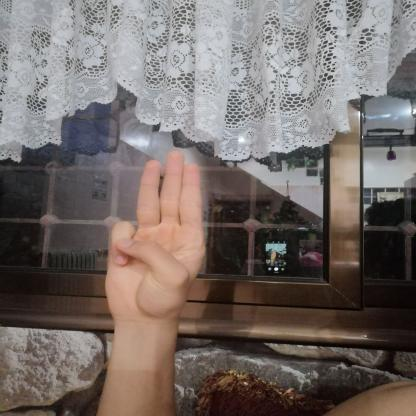THA: (88, 144, 219, 332)
